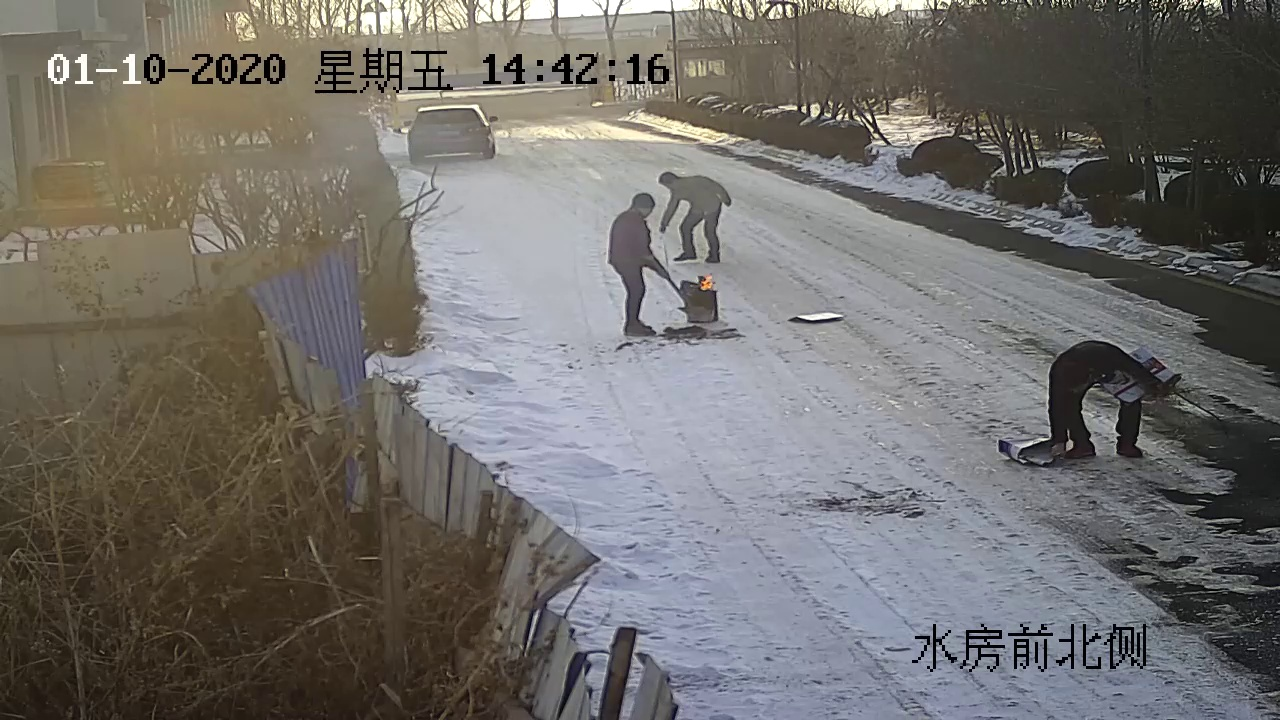fire: (703, 273, 719, 291)
